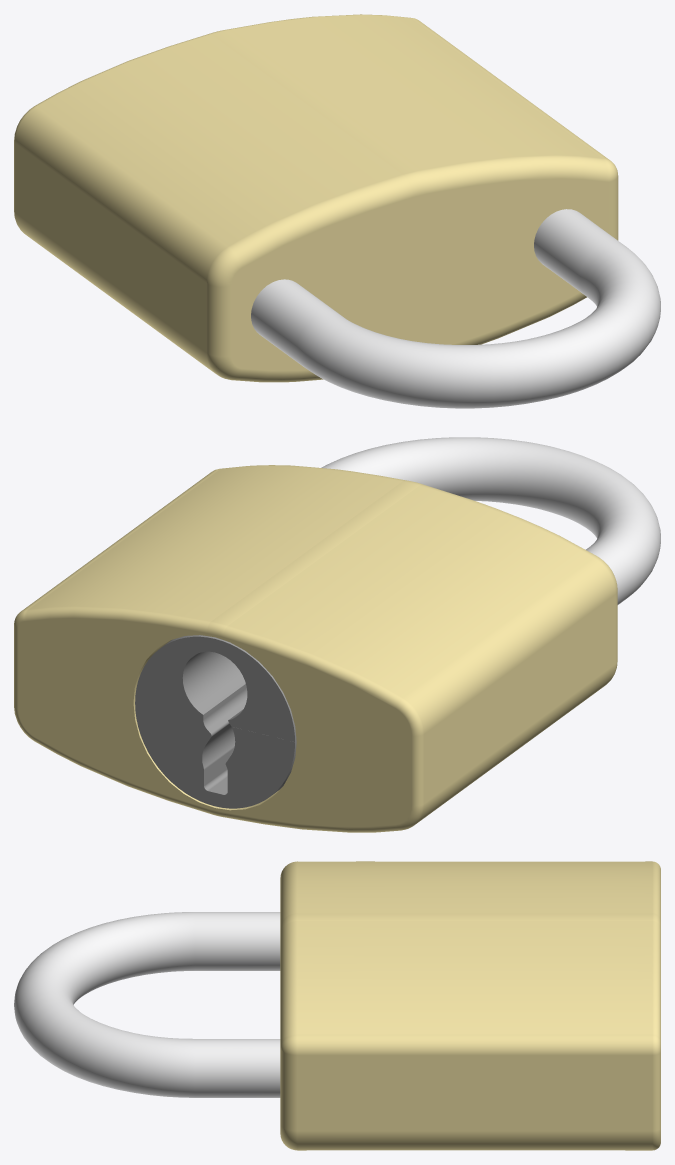
Rendered from GoldLock.fbx.
3 renders of one model, top to bottom at view 1: azimuth 30°, elevation 25°; view 2: azimuth 150°, elevation 25°; view 3: azimuth 270°, elevation 25°, orthographic. The views are drawn at different scales.
Parts seen in each view (by area): view 1: Body1 (×2); view 2: Body1 (×2), Body3; view 3: Body1 (×2).
Part boxes in pixels (<box>): Body1 (×2): <box>14,14,660,408</box>; Body1 (×2): <box>14,437,660,832</box>; Body3: <box>135,635,296,808</box>; Body1 (×2): <box>14,861,660,1150</box>.
Bounding box in the file's own units: 51.86 × 23.29 × 76.5.
